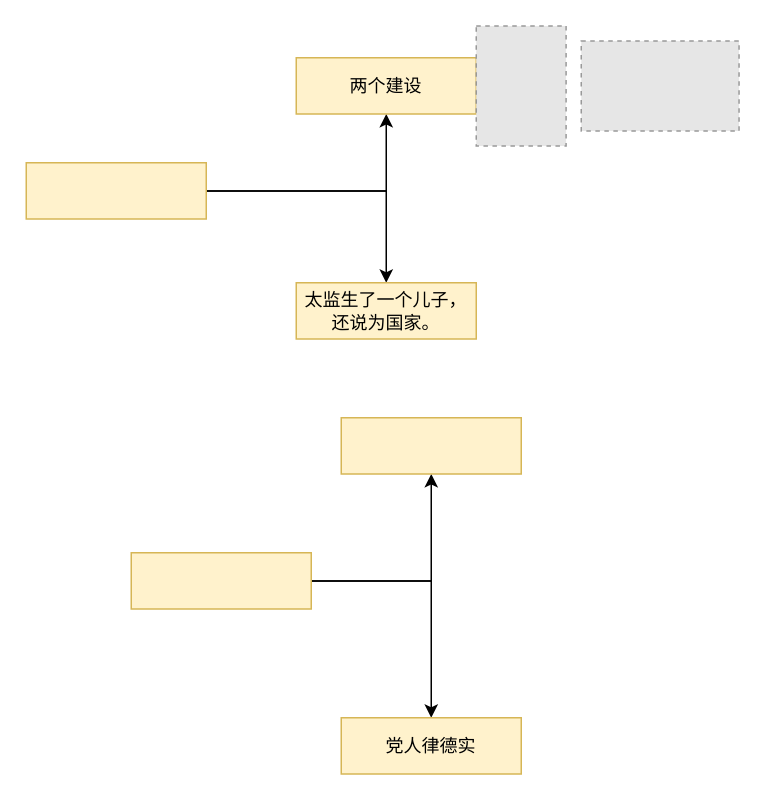
Some shapes in this 767 by 801 pixel diagram are drawn without their labels. Grey dashed boxes stand in for pictures. Each missing label, with the box of its shape:
全面依法治国的基础原则: (130, 551, 311, 609)
全面依法治国的目标: (25, 161, 206, 219)
